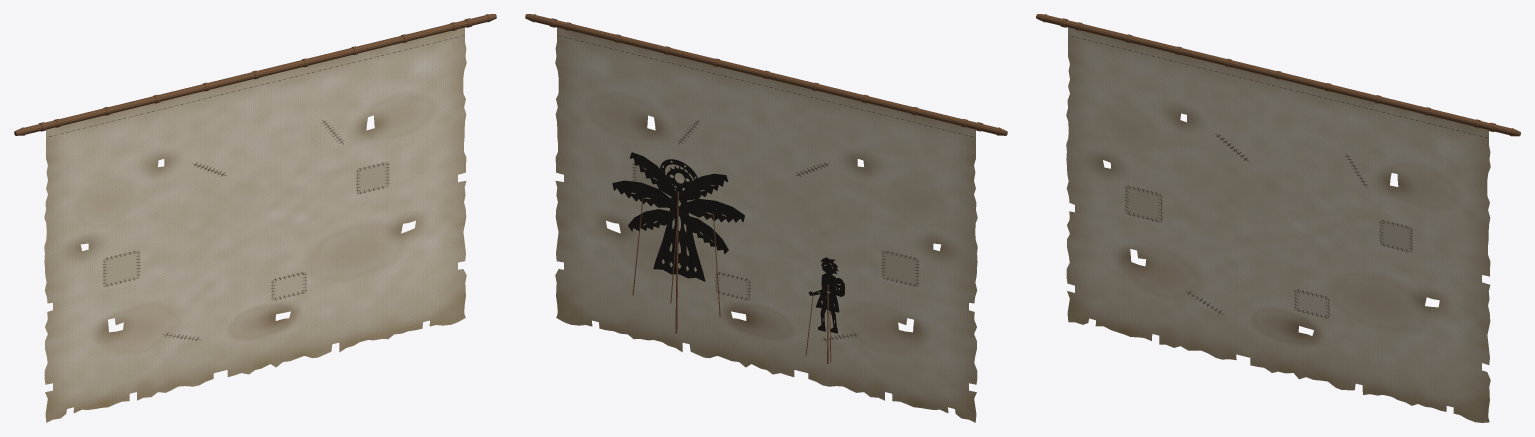
The model's file is shadow_puppets.glb.
The picture shows the model from 3 angles, left to right: view 1: azimuth 30°, elevation 25°; view 2: azimuth 150°, elevation 25°; view 3: azimuth 330°, elevation 25°; orthographic projection.
Visible parts, largest first — view 1: Screen_Cloth, Screen_Rod; view 2: Screen_Cloth, Screen_Rod, Puppet_Angel_Robe, Puppet_Angel_WingMidR, Puppet_Angel_WingMidL, Puppet_Angel_WingTopR, Puppet_Angel_WingTopL, Puppet_Angel_WingBotL, Puppet_Angel_WingBotR, Puppet_Rota_Torso; view 3: Screen_Cloth, Screen_Rod.
Part boxes in pixels (x1,y1,x2,y2): Screen_Cloth: (44,27,466,422); Screen_Rod: (14,14,496,135); Screen_Cloth: (555,27,977,422); Screen_Rod: (525,14,1007,135); Puppet_Angel_Robe: (653,191,705,281); Puppet_Angel_WingMidR: (612,180,674,207); Puppet_Angel_WingMidL: (683,198,744,222); Puppet_Angel_WingTopR: (630,152,676,196); Puppet_Angel_WingTopL: (681,173,728,200); Puppet_Angel_WingBotL: (682,215,728,253); Puppet_Angel_WingBotR: (628,209,674,231); Puppet_Rota_Torso: (816,273,839,312); Screen_Cloth: (1066,27,1490,422); Screen_Rod: (1036,14,1520,136).
Bounding box in the file's own units: 3.44 × 2.07 × 0.2492.
Materials: 3 (3 with a texture image).
